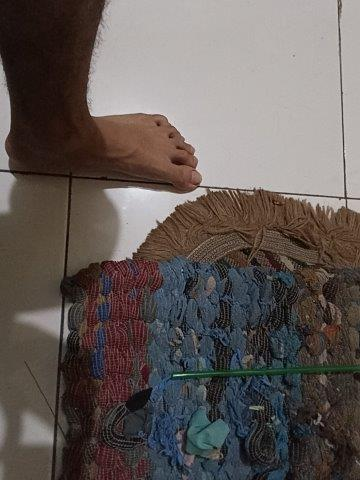sedotan: (174, 365, 360, 380)
